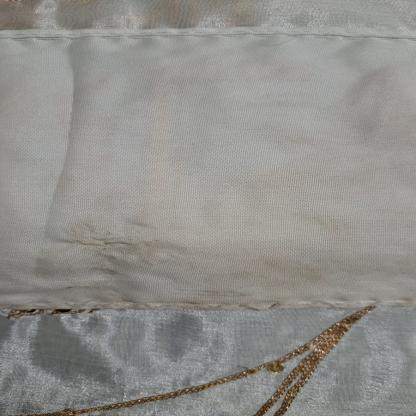spot: (297, 210, 349, 233)
